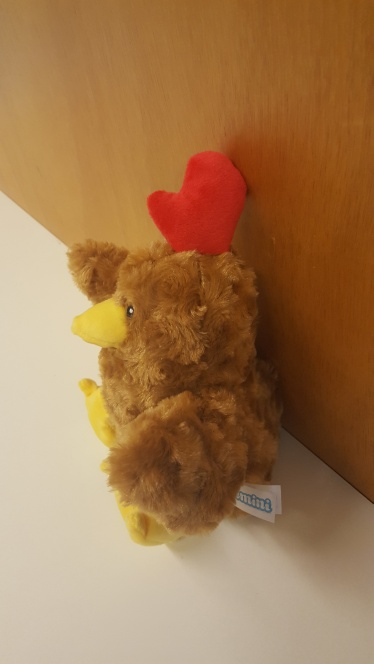chicken_right: (62, 151, 287, 548)
